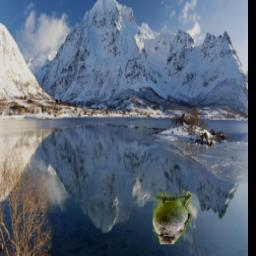Sparrow: (154, 193, 192, 244)
